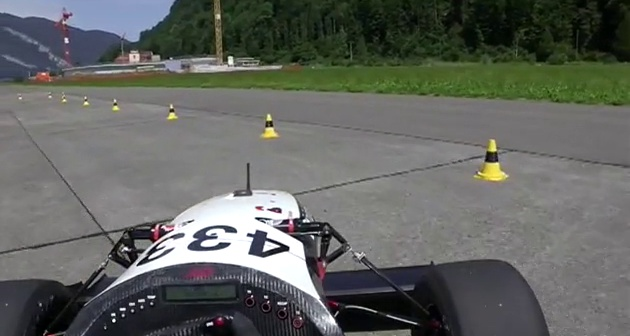Cone: (473, 138, 511, 182), (259, 112, 280, 140), (165, 101, 179, 121), (110, 97, 122, 112)
